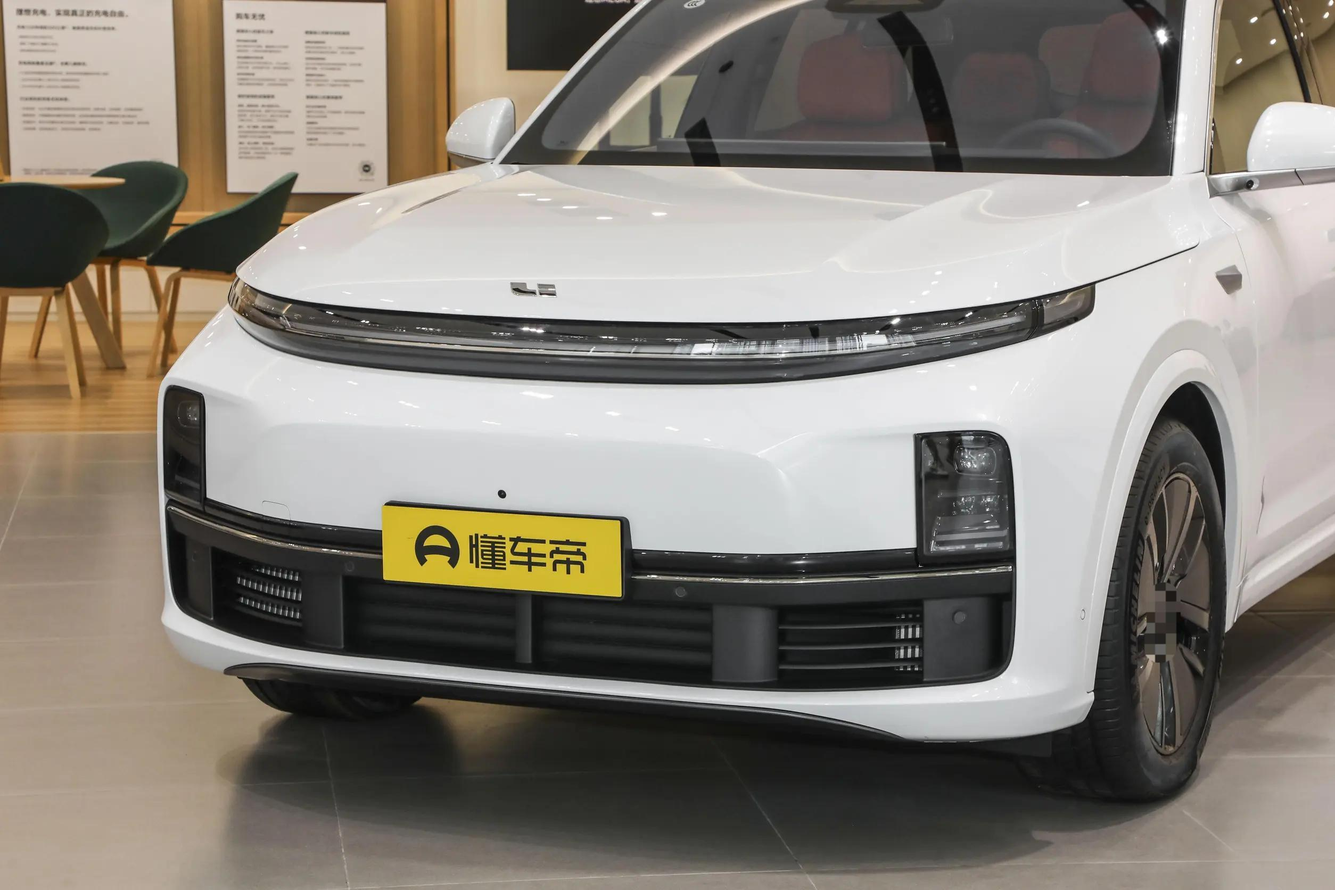Li Auto: (509, 281, 559, 299)
